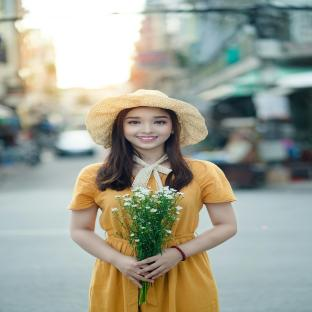Human: (68, 89, 236, 312)
